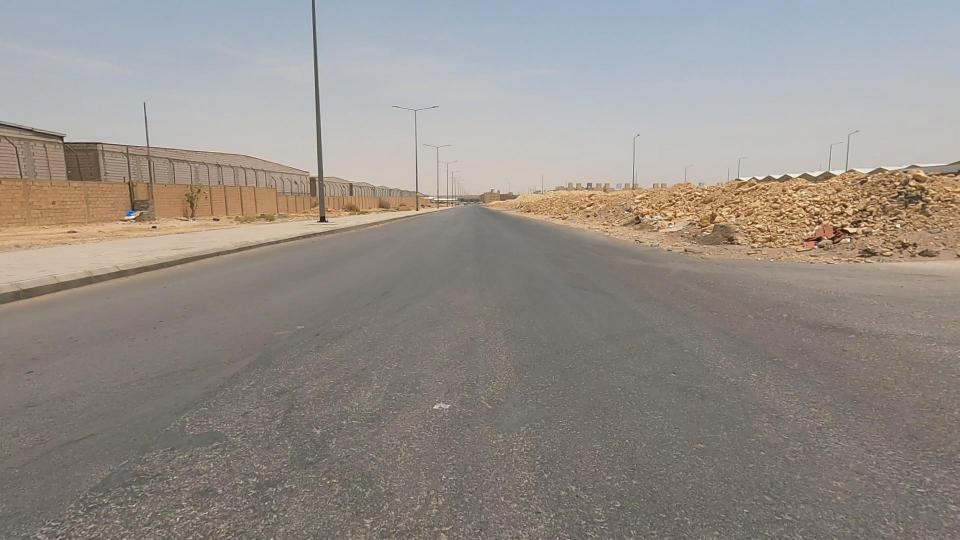GARBAGE: (765, 198, 883, 279), (94, 190, 158, 240)
